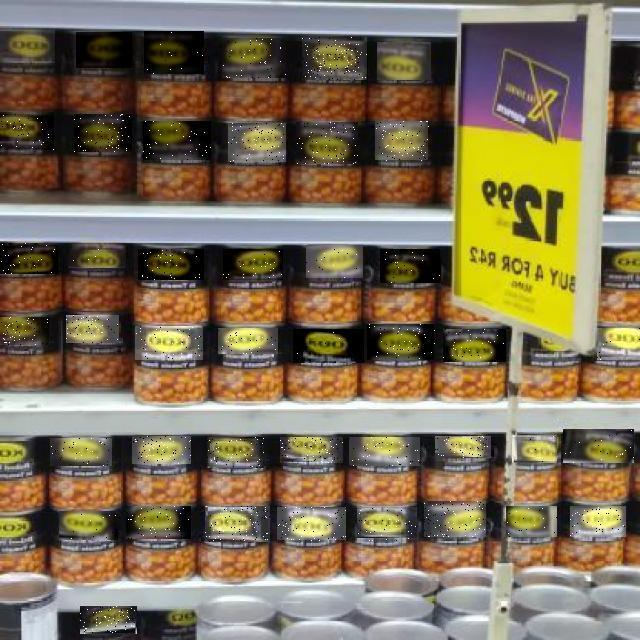Beans: (302, 37, 367, 80), (143, 122, 211, 162), (297, 122, 359, 164), (144, 31, 204, 74), (222, 39, 286, 79), (368, 325, 436, 361), (293, 329, 364, 363), (563, 429, 634, 463), (277, 508, 346, 542), (205, 506, 270, 542), (135, 326, 203, 360), (228, 123, 286, 162), (425, 501, 487, 537), (74, 114, 132, 152), (376, 122, 430, 162), (126, 506, 191, 539), (443, 329, 506, 362), (349, 437, 420, 466), (0, 112, 54, 150), (377, 42, 431, 80), (138, 249, 204, 280), (380, 249, 440, 283), (357, 508, 417, 542), (76, 32, 132, 68), (306, 246, 363, 280), (223, 249, 283, 280), (0, 30, 55, 63), (0, 243, 58, 274), (207, 437, 264, 468), (50, 439, 112, 467), (571, 506, 627, 537), (60, 511, 118, 540), (132, 436, 191, 464), (280, 437, 343, 463), (80, 606, 137, 634), (506, 506, 557, 537), (219, 328, 279, 354), (66, 315, 119, 343), (68, 243, 126, 268), (597, 328, 640, 360), (0, 317, 49, 345), (436, 436, 494, 458), (512, 435, 557, 463)
